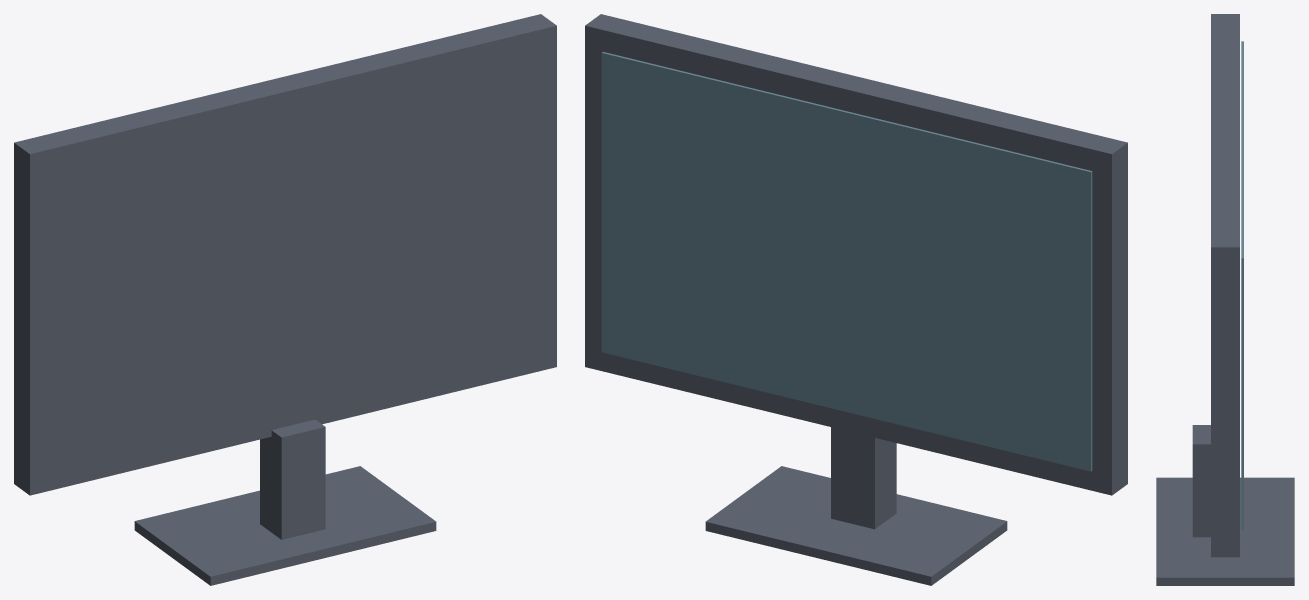
Rendered from chip-display-monitor-v1.glb.
3 views of the same model, side by side, from view 1: azimuth 30°, elevation 25°; view 2: azimuth 150°, elevation 25°; view 3: azimuth 270°, elevation 25° (orthographic). The views are drawn at different scales.
Visible parts, largest first — view 1: black display frame, black monitor foot, black stand neck; view 2: screen glass, black display frame, black monitor foot, black stand neck; view 3: black display frame, black monitor foot, black stand neck, screen glass.
Part boxes in pixels (x1,y1,x2,y2): black display frame: (14,14,556,495); black monitor foot: (134,466,436,585); black stand neck: (260,419,325,539); screen glass: (601,52,1092,471); black display frame: (585,14,1127,495); black monitor foot: (705,466,1007,585); black stand neck: (831,427,896,529); black display frame: (1211,14,1239,557); black monitor foot: (1156,477,1294,585); black stand neck: (1192,425,1210,537); screen glass: (1241,41,1243,529).
Size of the model in its own units: 0.42 by 0.34 by 0.105.
